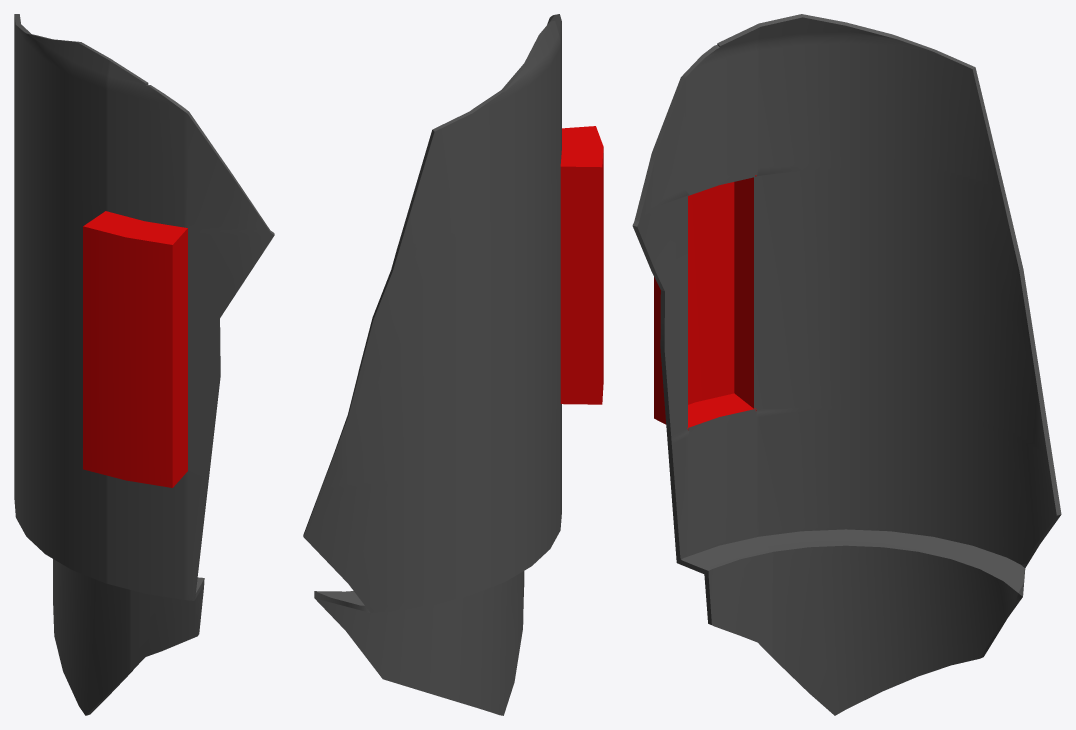
File: PowerRod_destroyed_piece07.fbx
3 renders of one model, left to right at view 1: azimuth 30°, elevation 25°; view 2: azimuth 150°, elevation 25°; view 3: azimuth 270°, elevation 25°, orthographic. The views are drawn at different scales.
Visible parts, largest first — view 1: polySurface42; view 2: polySurface42; view 3: polySurface42.
Part boxes in pixels (bbox=[...]): polySurface42: bbox=[14, 14, 274, 715]; polySurface42: bbox=[303, 14, 603, 715]; polySurface42: bbox=[632, 14, 1061, 715].
Size of the model in its own units: 9.1 by 39.33 by 22.24.
